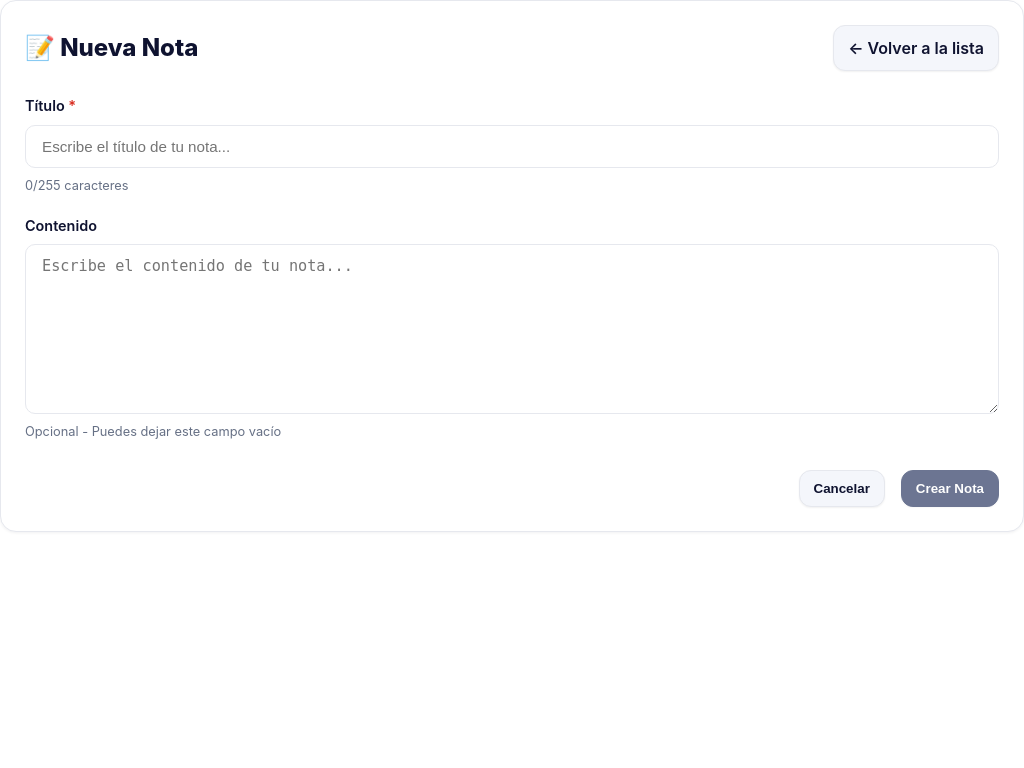
Scenario: NoteForm › enables submit button when title is provided
In the field labelled "Título *": (512, 146) [25, 125, 999, 168], type "Test"
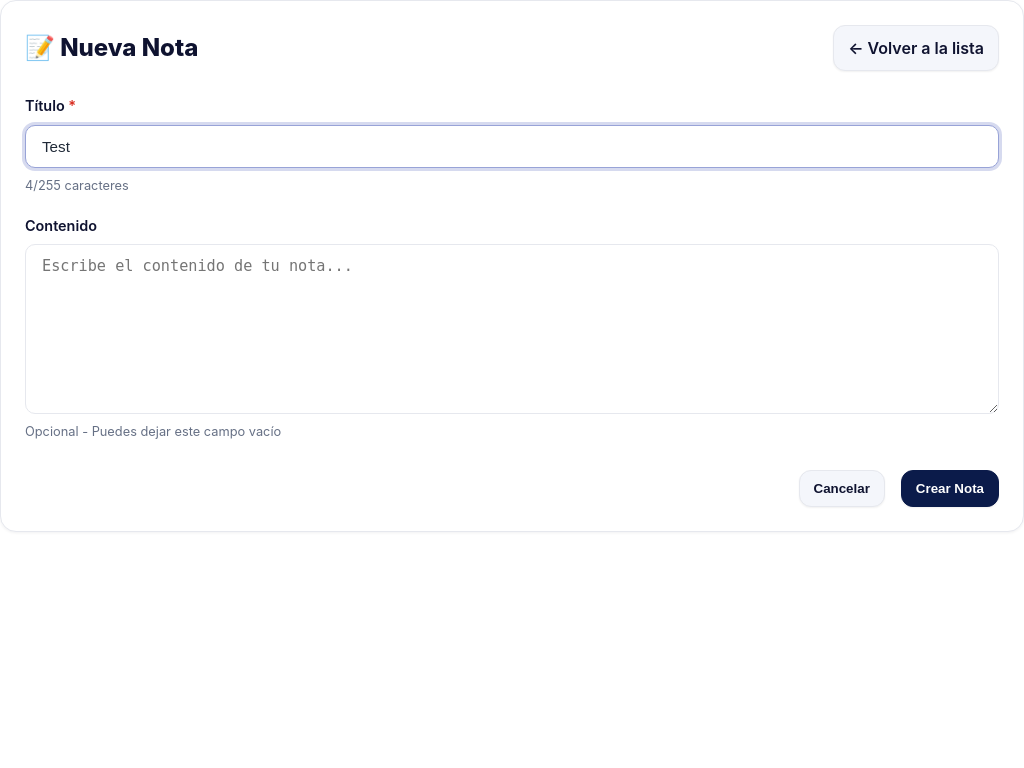
expect the button "Crear Nota" is enabled: met, box [901, 470, 999, 507]
